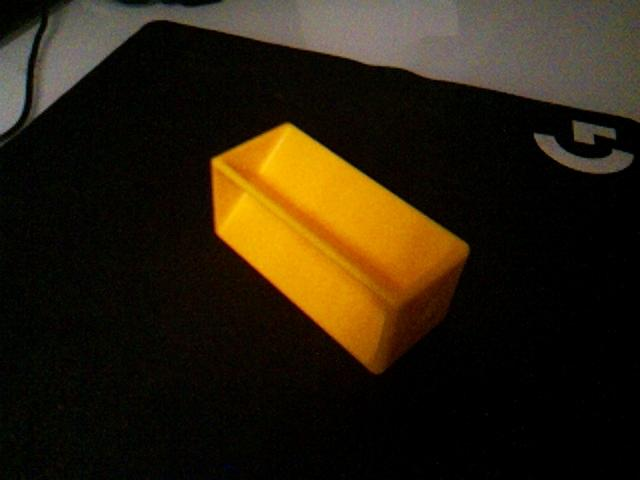yellow: (209, 121, 472, 375)
